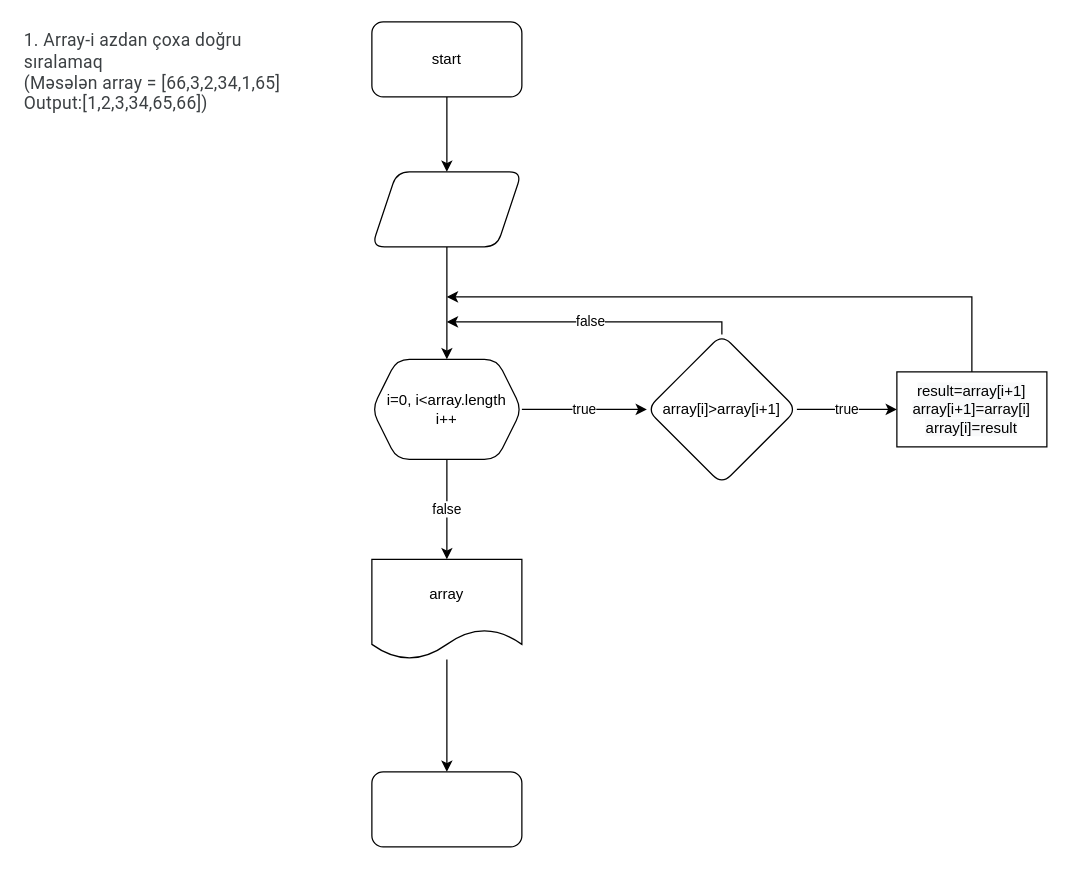
Some shapes in this 1069 by 869 pixel diagram are drawn without their labels. The box of each missing label's shape, as (x1, y1, x2, y2) in pixels:
array i=0 n=1 result=0: (371, 171, 522, 247)
end: (371, 771, 522, 847)
